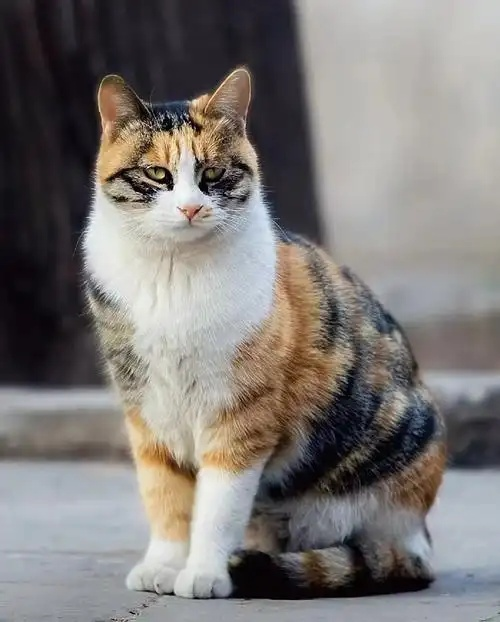三花猫: (105, 243, 443, 596), (84, 67, 259, 295)
